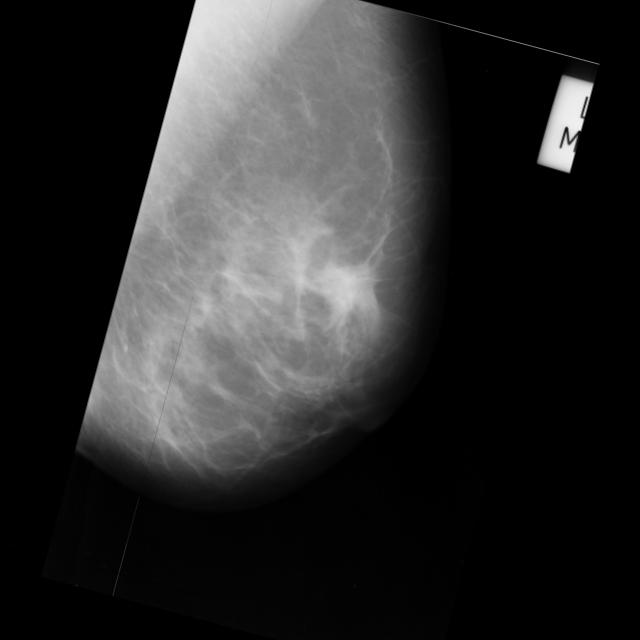ARCH: (387, 30, 610, 388)
